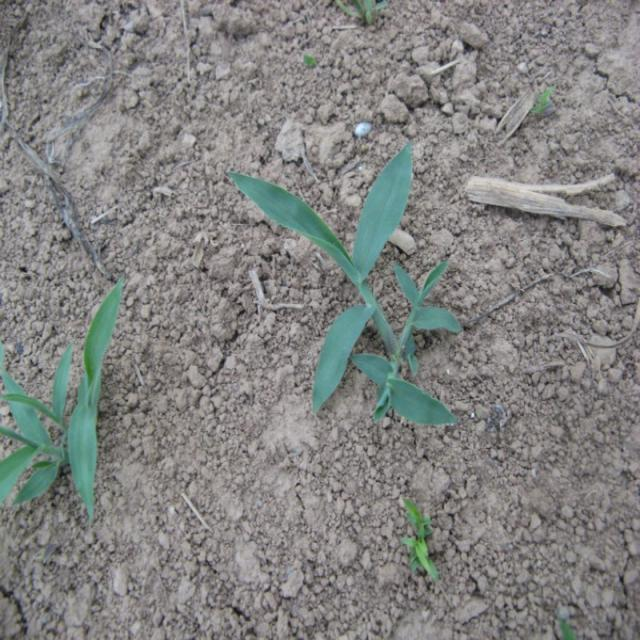bg: (227, 151, 457, 429)
